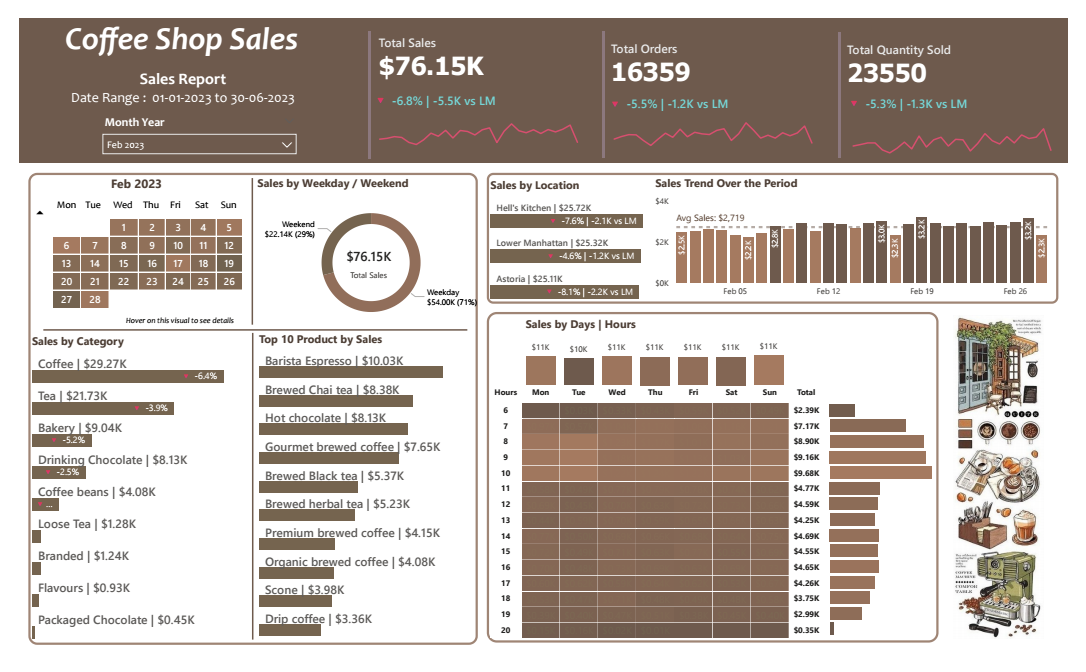

This screenshot's page, from the dashboard's own definition file:
{"tool":"powerbi","page":{"name":"Dashboard","canvas":[1400,850],"ordinal":0},"visuals":[{"type":"shape","box":[625,393.3,603.3,441.7],"z":0},{"type":"shape","box":[0,0,1400,192.5],"z":1000},{"type":"textbox","box":[0,0,378.4,62.7],"z":2000},{"type":"textbox","box":[60.8,62.7,317.6,64.7],"z":3000},{"type":"shape","box":[13.1,206.7,600,631.1],"z":4000},{"type":"shape","box":[625,206.7,763.3,175],"z":5000},{"type":"slicer","fields":{"Values":["Date Table.Month Year"]},"box":[101.9,124.1,279.6,66.7],"z":6000},{"type":"group","id":"g1","title":"Group 1","box":[461,13,300.5,180],"z":7000},{"type":"group","id":"g2","title":"Group 1","box":[774,13,300.5,179],"z":8000},{"type":"group","id":"g3","title":"Group 1","box":[1089,14,304,178],"z":9000},{"type":"shape","box":[32.7,403.6,566.4,26.4],"z":10000},{"type":"cardVisual","fields":{"Data":["Transactions.Total Sales"]},"box":[461,13,300,180],"z":11000,"group":"g1"},{"type":"cardVisual","fields":{"Data":["Transactions.Total Orders"]},"box":[774,13,300,179],"z":11000,"group":"g2"},{"type":"cardVisual","fields":{"Data":["Transactions.Total Quantity Sold"]},"box":[1089,14,300,178],"z":11000,"group":"g3"},{"type":"pivotTable","fields":{"Rows":["Date Table.Week Number"],"Columns":["Date Table.Day Name"],"Values":["Min(Date Table.Day Number)"]},"box":[13.7,233.7,302.4,185.6],"z":11000},{"type":"shape","box":[304,214,16,196],"z":12000},{"type":"lineChart","fields":{"Category":["Date Table.Date.Variation.Date Hierarchy.Year","Date Table.Date.Variation.Date Hierarchy.Quarter","Date Table.Date.Variation.Date Hierarchy.Month","Date Table.Date.Variation.Date Hierarchy.Day"],"Y":["Transactions.Total Sales"]},"box":[467,98.6,294.4,82.5],"z":13000,"group":"g1"},{"type":"lineChart","fields":{"Category":["Date Table.Date.Variation.Date Hierarchy.Year","Date Table.Date.Variation.Date Hierarchy.Quarter","Date Table.Date.Variation.Date Hierarchy.Month","Date Table.Date.Variation.Date Hierarchy.Day"],"Y":["Transactions.Total Quantity Sold"]},"box":[1098.6,103.2,294.4,85.2],"z":13000,"group":"g3"},{"type":"lineChart","fields":{"Category":["Date Table.Date.Variation.Date Hierarchy.Year","Date Table.Date.Variation.Date Hierarchy.Quarter","Date Table.Date.Variation.Date Hierarchy.Month","Date Table.Date.Variation.Date Hierarchy.Day"],"Y":["Transactions.Total Orders"]},"box":[780,104.5,294.4,85.2],"z":13000,"group":"g2"},{"type":"card","fields":{"Values":["Min(Date Table.Month Year)"]},"box":[32.5,206.5,250.4,34.4],"z":13000},{"type":"card","fields":{"Values":["Transactions.Foot Note"]},"box":[118.2,396.4,194.5,20.9],"z":14000},{"type":"donutChart","title":"          Sales by Weekday / Weekend","fields":{"Y":["Transactions.Total Sales"],"Category":["Date Table.Weekday / Weekend"]},"box":[308.5,210.2,311.9,208.5],"z":15000},{"type":"card","fields":{"Values":["Transactions.Total Sales"]},"box":[415.8,295.6,103.1,63.6],"z":16000},{"type":"clusteredBarChart","title":"Sales by Location","fields":{"Y":["Transactions.Placeholder","Transactions.Total Sales"],"Category":["Transactions.store_location"]},"box":[1171.2,208.5,228.8,169.5],"z":17000},{"type":"columnChart","title":"Sales Trend Over the  Period","fields":{"Category":["Transactions.transaction_date"],"Y":["Transactions.Total Sales"]},"box":[627.1,208.5,542.4,171.2],"z":18000},{"type":"clusteredBarChart","title":"Sales by Category","fields":{"Y":["Transactions.Placeholder","Transactions.Total Sales"],"Category":["Transactions.product_category"]},"box":[12.9,420.7,291.2,414.2],"z":19000},{"type":"shape","box":[307.8,421.1,8.9,410],"z":20000},{"type":"clusteredBarChart","title":"Top 10 Product by Sales","fields":{"Y":["Transactions.Placeholder","Transactions.Total Sales"],"Category":["Transactions.product_type"]},"box":[315.6,417.8,291.1,413.3],"z":21000},{"type":"pivotTable","fields":{"Rows":["Transactions.Hours"],"Columns":["Date Table.Day Name"],"Values":["Transactions.Total Sales"]},"box":[625,485.8,475,351.7],"z":22000},{"type":"barChart","fields":{"Category":["Transactions.Hours"],"Y":["Transactions.Total Sales"]},"box":[1077.8,503.3,150,326.7],"z":23000},{"type":"columnChart","title":"Sales by Days | Hours","fields":{"Y":["Transactions.Total Sales"],"Category":["Date Table.Day Name"]},"box":[671.7,398.3,355,98.3],"z":24000},{"type":"image","box":[1228,393,160,442],"z":25000}]}

Visuals, with their boxes in screenshot pixels (x1, y1, x2, y2), scaled from the page's 1400x850 canvas onto the 1086x672 screenshot:
shape: {"left": 485, "top": 311, "right": 953, "bottom": 660}
shape: {"left": 0, "top": 0, "right": 1085, "bottom": 152}
textbox: {"left": 0, "top": 0, "right": 294, "bottom": 50}
textbox: {"left": 47, "top": 50, "right": 294, "bottom": 101}
shape: {"left": 10, "top": 163, "right": 476, "bottom": 662}
shape: {"left": 485, "top": 163, "right": 1077, "bottom": 302}
slicer - Date Table.Month Year: {"left": 79, "top": 98, "right": 296, "bottom": 151}
"Group 1" group: {"left": 358, "top": 10, "right": 591, "bottom": 153}
"Group 1" group: {"left": 600, "top": 10, "right": 834, "bottom": 152}
"Group 1" group: {"left": 845, "top": 11, "right": 1081, "bottom": 152}
shape: {"left": 25, "top": 319, "right": 465, "bottom": 340}
cardVisual - Transactions.Total Sales: {"left": 358, "top": 10, "right": 590, "bottom": 153}
cardVisual - Transactions.Total Orders: {"left": 600, "top": 10, "right": 833, "bottom": 152}
cardVisual - Transactions.Total Quantity Sold: {"left": 845, "top": 11, "right": 1077, "bottom": 152}
pivotTable - Date Table.Week Number x Date Table.Day Name: {"left": 11, "top": 185, "right": 245, "bottom": 331}
shape: {"left": 236, "top": 169, "right": 248, "bottom": 324}
lineChart - Date Table.Date.Variation.Date Hierarchy.Year x Date Table.Date.Variation.Date Hierarchy.Quarter: {"left": 362, "top": 78, "right": 591, "bottom": 143}
lineChart - Date Table.Date.Variation.Date Hierarchy.Year x Date Table.Date.Variation.Date Hierarchy.Quarter: {"left": 852, "top": 82, "right": 1081, "bottom": 149}
lineChart - Date Table.Date.Variation.Date Hierarchy.Year x Date Table.Date.Variation.Date Hierarchy.Quarter: {"left": 605, "top": 83, "right": 833, "bottom": 150}
card - Min(Date Table.Month Year): {"left": 25, "top": 163, "right": 219, "bottom": 190}
card - Transactions.Foot Note: {"left": 92, "top": 313, "right": 243, "bottom": 330}
"          Sales by Weekday / Weekend" donutChart: {"left": 239, "top": 166, "right": 481, "bottom": 331}
card - Transactions.Total Sales: {"left": 323, "top": 234, "right": 403, "bottom": 284}
"Sales by Location" clusteredBarChart: {"left": 909, "top": 165, "right": 1085, "bottom": 299}
"Sales Trend Over the  Period" columnChart: {"left": 486, "top": 165, "right": 907, "bottom": 300}
"Sales by Category" clusteredBarChart: {"left": 10, "top": 333, "right": 236, "bottom": 660}
shape: {"left": 239, "top": 333, "right": 246, "bottom": 657}
"Top 10 Product by Sales" clusteredBarChart: {"left": 245, "top": 330, "right": 471, "bottom": 657}
pivotTable - Transactions.Hours x Date Table.Day Name: {"left": 485, "top": 384, "right": 853, "bottom": 662}
barChart - Transactions.Hours x Transactions.Total Sales: {"left": 836, "top": 398, "right": 952, "bottom": 656}
"Sales by Days | Hours" columnChart: {"left": 521, "top": 315, "right": 796, "bottom": 393}
image: {"left": 953, "top": 311, "right": 1077, "bottom": 660}
